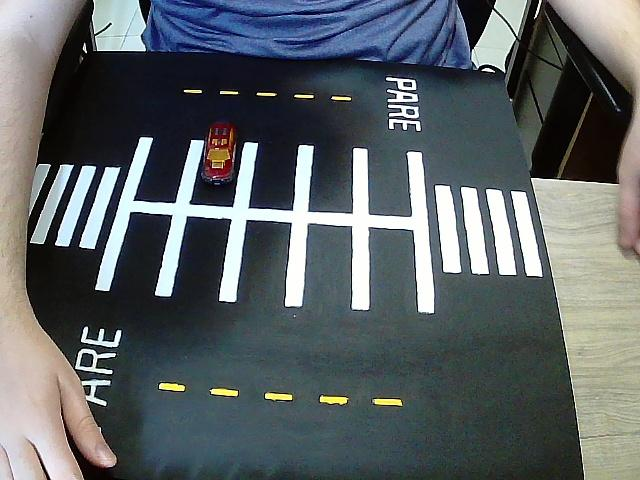Carro: (199, 122, 240, 188)
